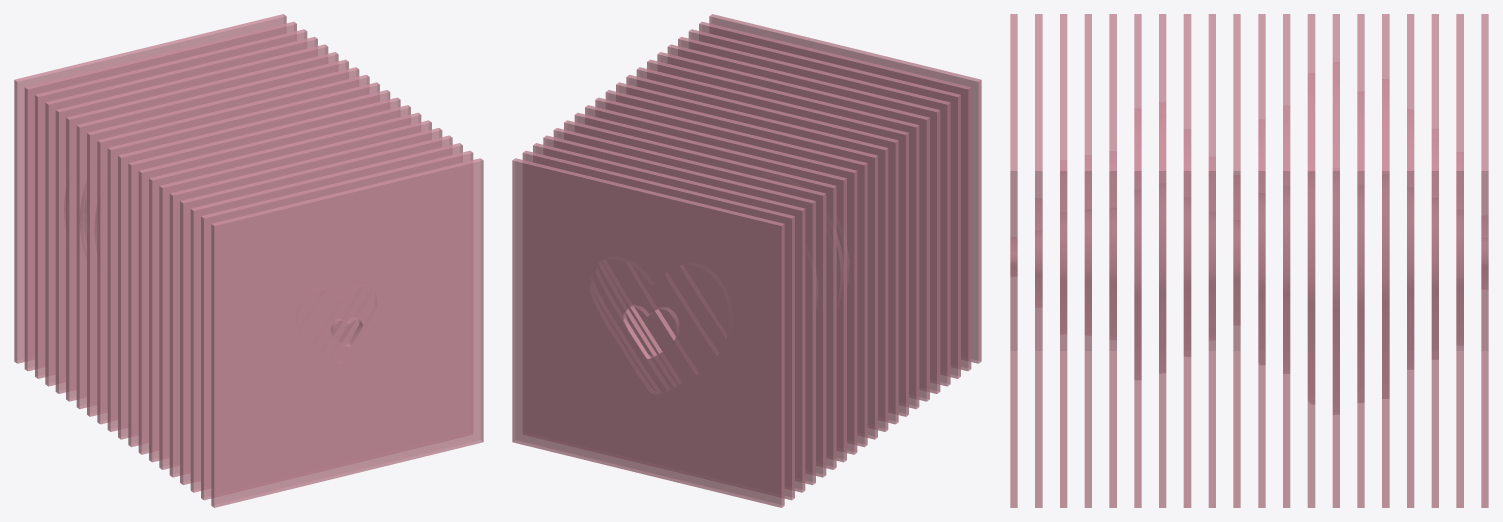
Rendered from sendlove.glb.
3 views of the same model, side by side, from view 1: azimuth 30°, elevation 25°; view 2: azimuth 150°, elevation 25°; view 3: azimuth 270°, elevation 25° (orthographic). The views are drawn at different scales.
Visible parts, largest first — view 1: 아이디어1; view 2: 아이디어1; view 3: 아이디어1.
Boxes of the visible parts, bbox=[...] form: 아이디어1: bbox=[14, 14, 483, 507]; 아이디어1: bbox=[512, 14, 981, 507]; 아이디어1: bbox=[1010, 14, 1488, 507].
Size of the model in its own units: 14.2 by 14.2 by 18.27.
